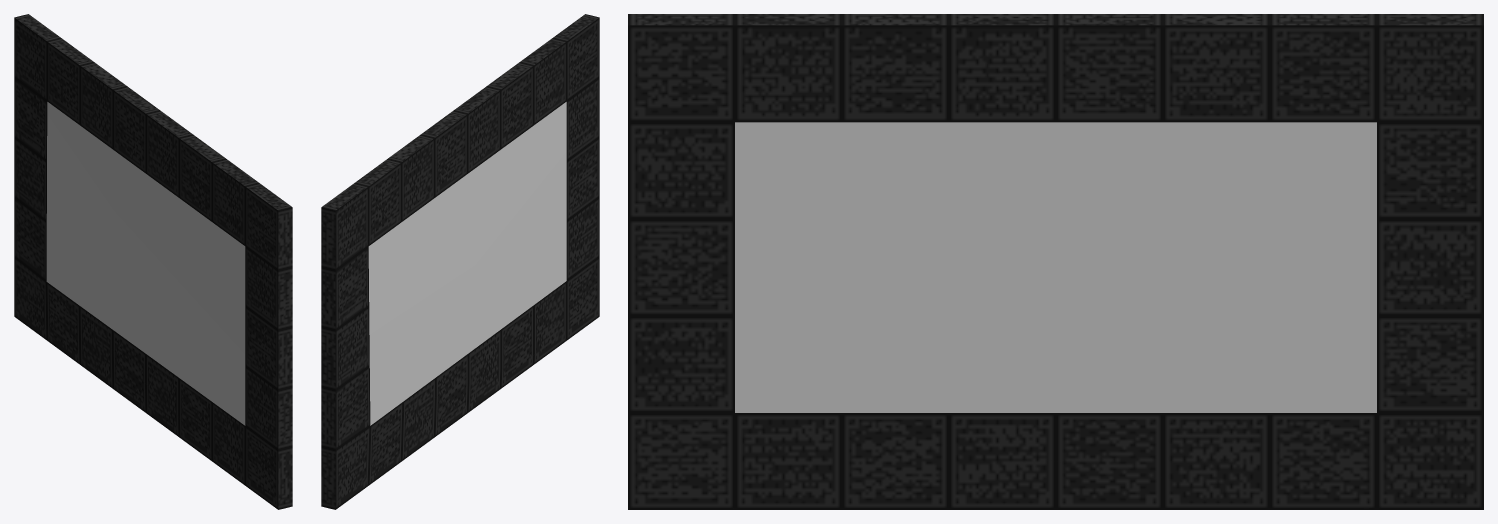
File: PlateSmaller.fbx
3 views of the same model, side by side, from view 1: azimuth 30°, elevation 25°; view 2: azimuth 150°, elevation 25°; view 3: azimuth 270°, elevation 25° (orthographic). The views are drawn at different scales.
Parts seen in each view (by area): view 1: Cube.020; view 2: Cube.020; view 3: Cube.020.
Boxes of the visible parts, <box> form: Cube.020: <box>14,14,292,509</box>; Cube.020: <box>321,14,599,509</box>; Cube.020: <box>628,14,1483,509</box>.
Bounding box in the file's own units: 27.25 × 500 × 800.
